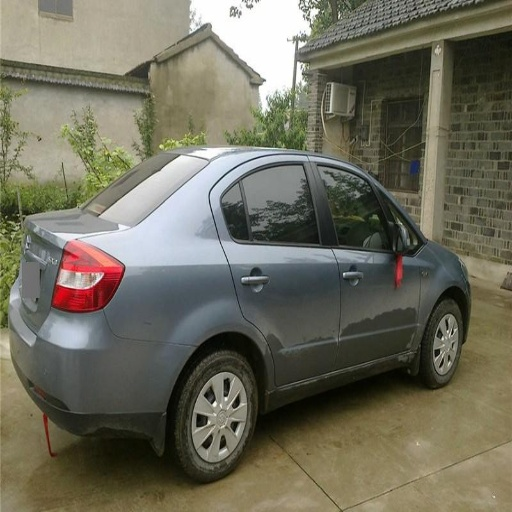back_bumper: (9, 309, 189, 447)
back_right_door: (216, 157, 339, 390)
